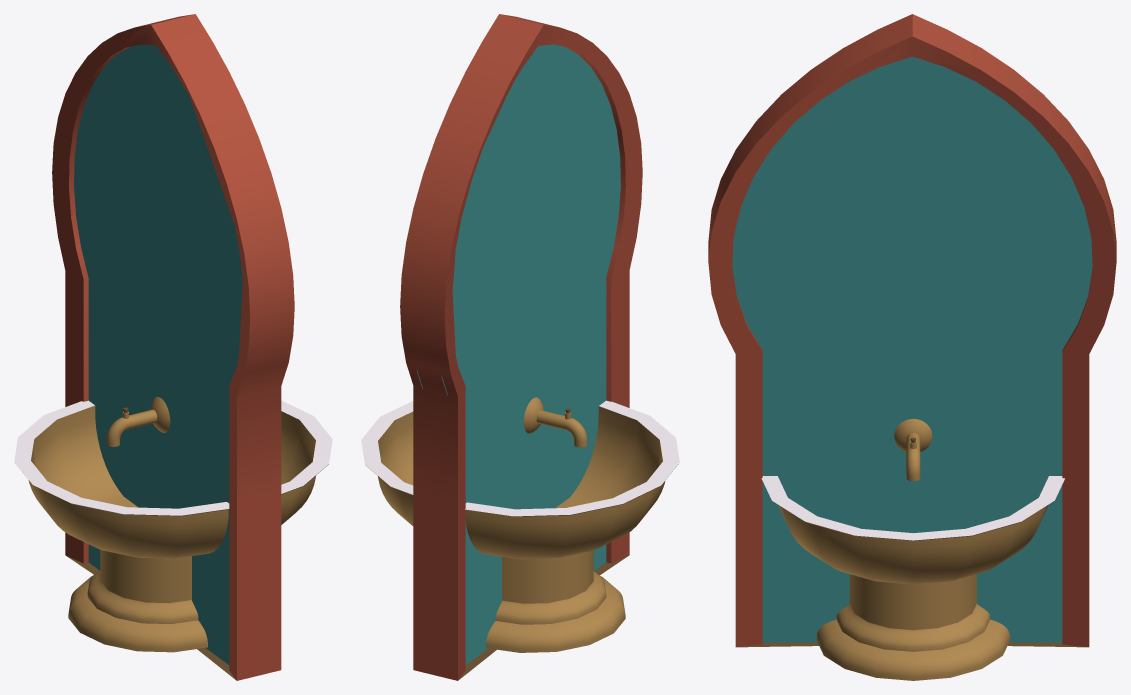
File: Fountain_Small.fbx
The picture shows the model from 3 angles, left to right: view 1: azimuth 30°, elevation 25°; view 2: azimuth 150°, elevation 25°; view 3: azimuth 270°, elevation 25°; orthographic projection. The views are drawn at different scales.
Parts seen in each view (by area): view 1: Plane.002, Plane.003, Plane.001, Cylinder, Sphere.001; view 2: Plane.002, Plane.003, Plane.001, Cylinder, Sphere.001; view 3: Plane.002, Plane.003, Plane.001, Sphere.001, Cylinder.
Part boxes in pixels (x1,y1,x2,y2): Plane.002: (74, 44, 242, 664); Plane.003: (52, 14, 294, 680); Plane.001: (14, 400, 332, 652); Cylinder: (106, 409, 157, 446); Sphere.001: (150, 396, 170, 432); Plane.002: (416, 44, 620, 664); Plane.003: (400, 14, 642, 680); Plane.001: (361, 400, 679, 652); Cylinder: (536, 410, 587, 447); Sphere.001: (523, 397, 543, 433); Plane.002: (732, 56, 1092, 642); Plane.003: (708, 14, 1116, 647); Plane.001: (761, 476, 1064, 680); Sphere.001: (894, 419, 932, 451); Cylinder: (906, 433, 920, 481).
Bounding box in the file's own units: 139 × 114 × 229.
